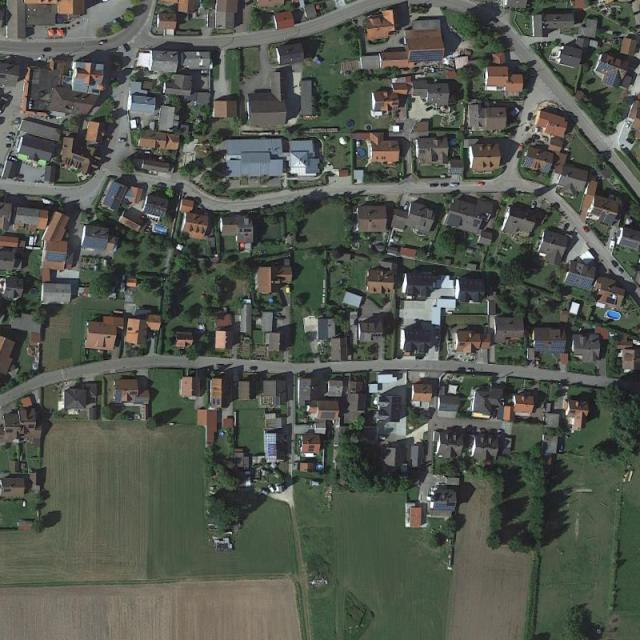vehicle: (268, 484, 275, 494), (35, 54, 45, 61), (275, 483, 282, 492), (584, 226, 591, 233), (617, 267, 624, 274), (531, 202, 537, 210), (611, 260, 619, 266), (158, 182, 166, 188), (323, 280, 326, 294), (99, 39, 107, 44), (117, 138, 125, 143), (43, 47, 52, 51), (430, 183, 438, 187), (466, 369, 474, 373), (442, 183, 449, 187), (478, 182, 485, 186), (323, 294, 326, 303), (451, 183, 459, 186)
